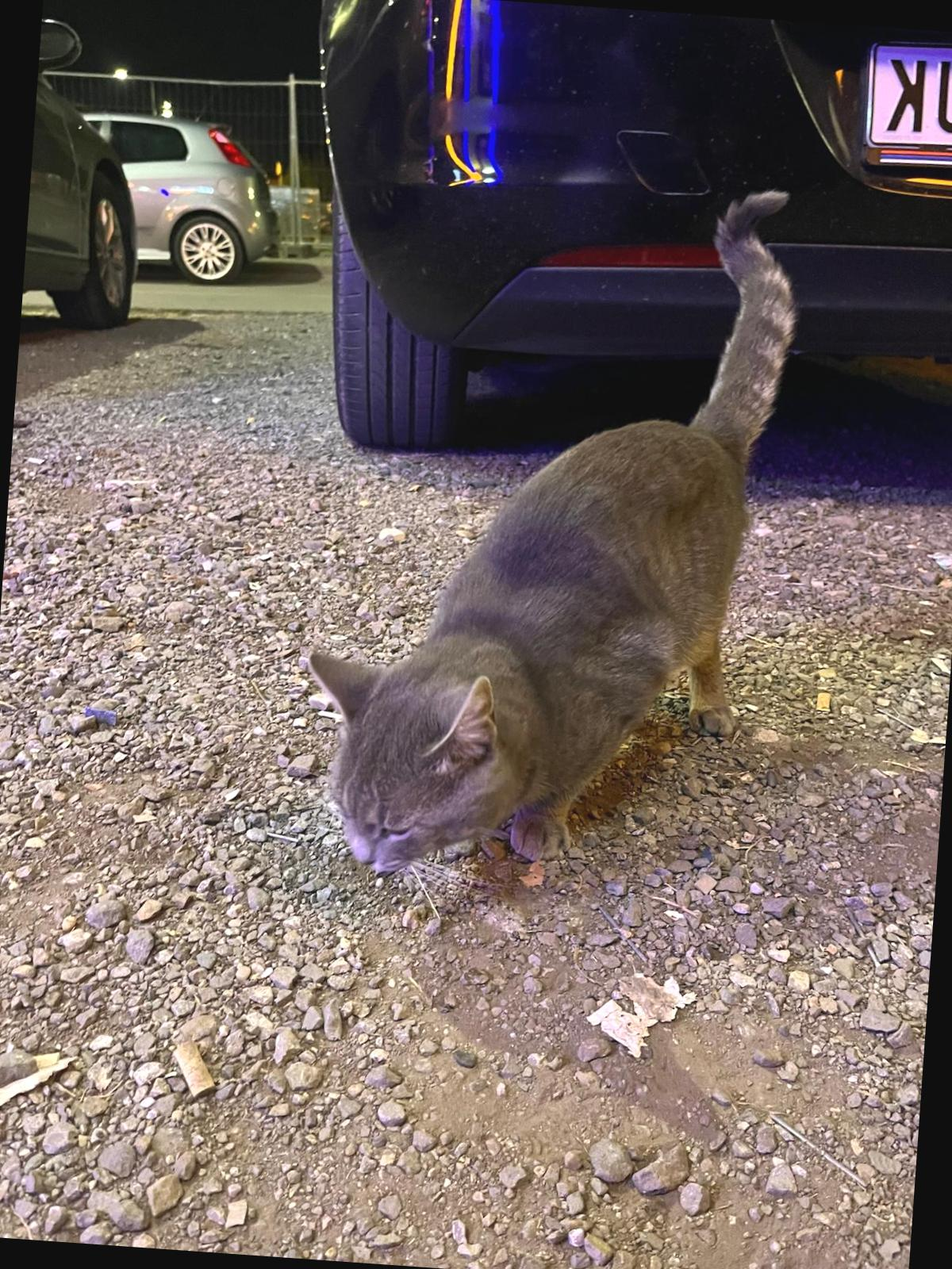macka: (301, 158, 797, 900)
